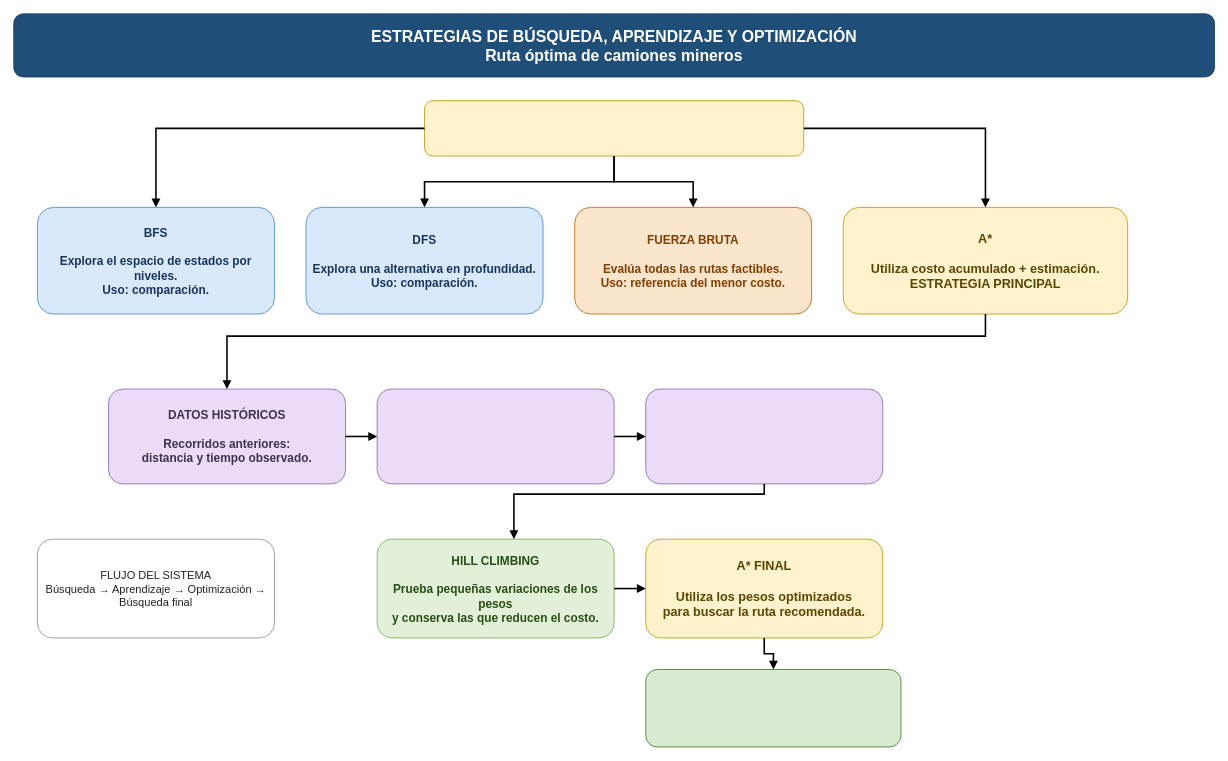
The diagram is 1228 pixels wide and 761 high, and some of its shapes have lost their labels. Here are the shapes that lost their labels. From the top down, the box of each, then its label:
(424, 100, 804, 156): ESPACIO DE ESTADOS Carga → Cruces → Descarga
(376, 388, 614, 484): APRENDIZAJE SIMPLE Tiempo promedio por km y estimación de tiempo por tramo.
(645, 388, 883, 484): COSTO OPERATIVO Tiempo + Combustible + Riesgo
(645, 669, 901, 747): RESULTADO FINAL Ruta recomendada del camión desde Carga hasta Descarga.
